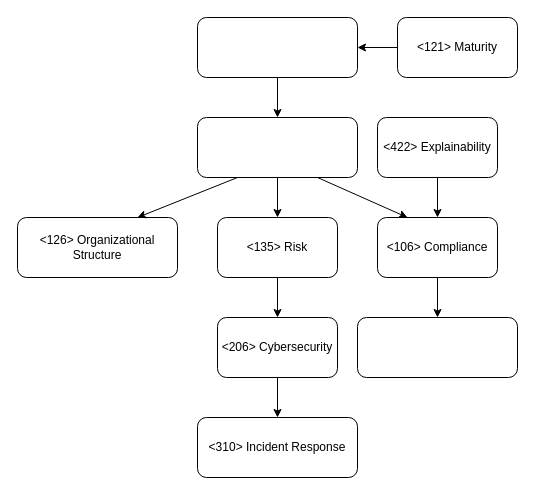
Some shapes in this 535 by 503 pixel diagram are drawn without their labels. Each missing label, with the centre of its shape:
<115> Internal Control: point 437,347
<119> Management Frameworks: point 277,47
<212> Governance of IT: point 277,147
